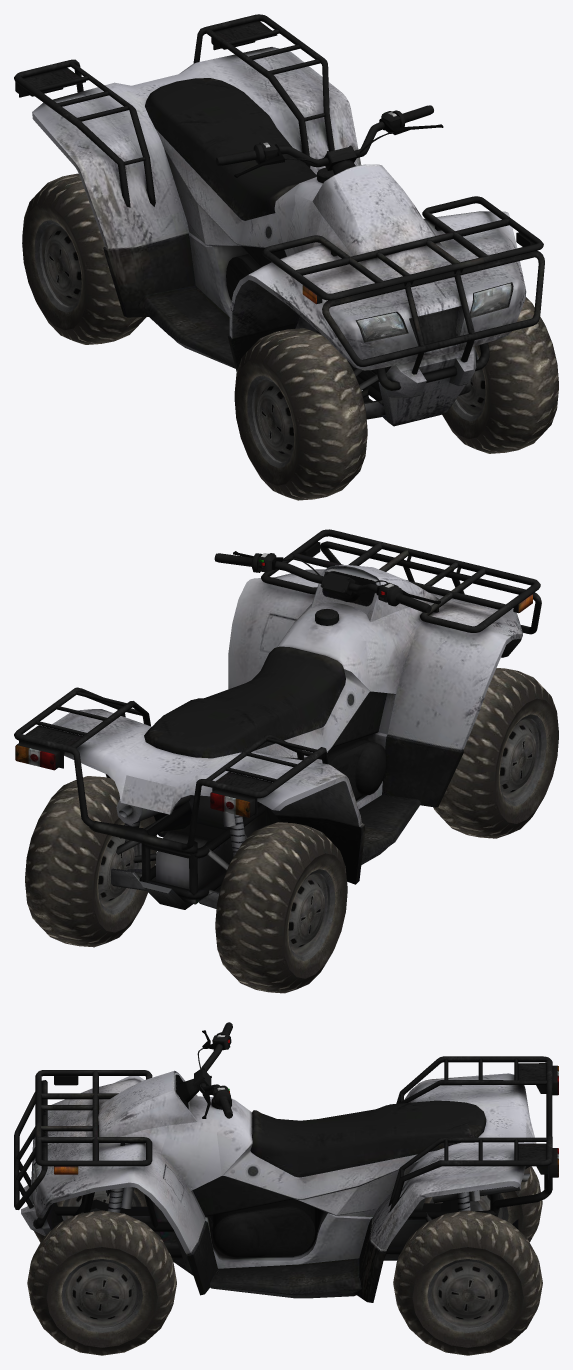
The model's file is atvm.glb.
3 views of the same model, one above another, from view 1: azimuth 30°, elevation 25°; view 2: azimuth 150°, elevation 25°; view 3: azimuth 270°, elevation 25° (orthographic). The views are drawn at different scales.
Parts seen in each view (by area): view 1: Body, Wheel, Wheel2, Wheel4, Parts, Handle, Lights; view 2: Body, Wheel2, Wheel3, Wheel, Parts, Handle, Lights; view 3: Body, Wheel3, Wheel4, Parts, Handle, Wheel2, Wheel.
Part boxes in pixels (x1,y1,x2,y2): Body: (14, 14, 544, 426); Wheel: (234, 328, 367, 500); Wheel2: (22, 173, 146, 344); Wheel4: (442, 297, 558, 453); Parts: (284, 164, 421, 256); Handle: (216, 105, 443, 177); Lights: (211, 37, 511, 341); Body: (14, 529, 541, 909); Wheel2: (215, 822, 347, 993); Wheel3: (25, 776, 156, 947); Wheel: (433, 668, 558, 838); Parts: (121, 565, 413, 814); Handle: (214, 551, 440, 613); Lights: (15, 745, 250, 817); Body: (14, 1056, 557, 1302); Wheel3: (393, 1210, 542, 1355); Wheel4: (27, 1210, 176, 1355); Parts: (111, 1071, 536, 1190); Handle: (178, 1022, 232, 1118); Wheel2: (424, 1166, 542, 1242); Wheel: (27, 1187, 147, 1242).
Bounding box in the file's own units: 101 × 104 × 205.
2 materials, 2 textured.
